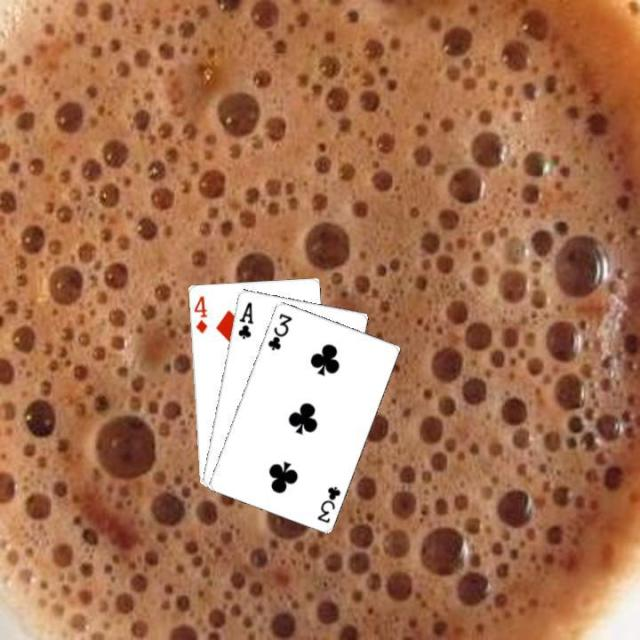3C: (264, 308, 294, 352), (313, 482, 342, 524)
4D: (190, 292, 209, 334)
AC: (234, 298, 255, 340)
